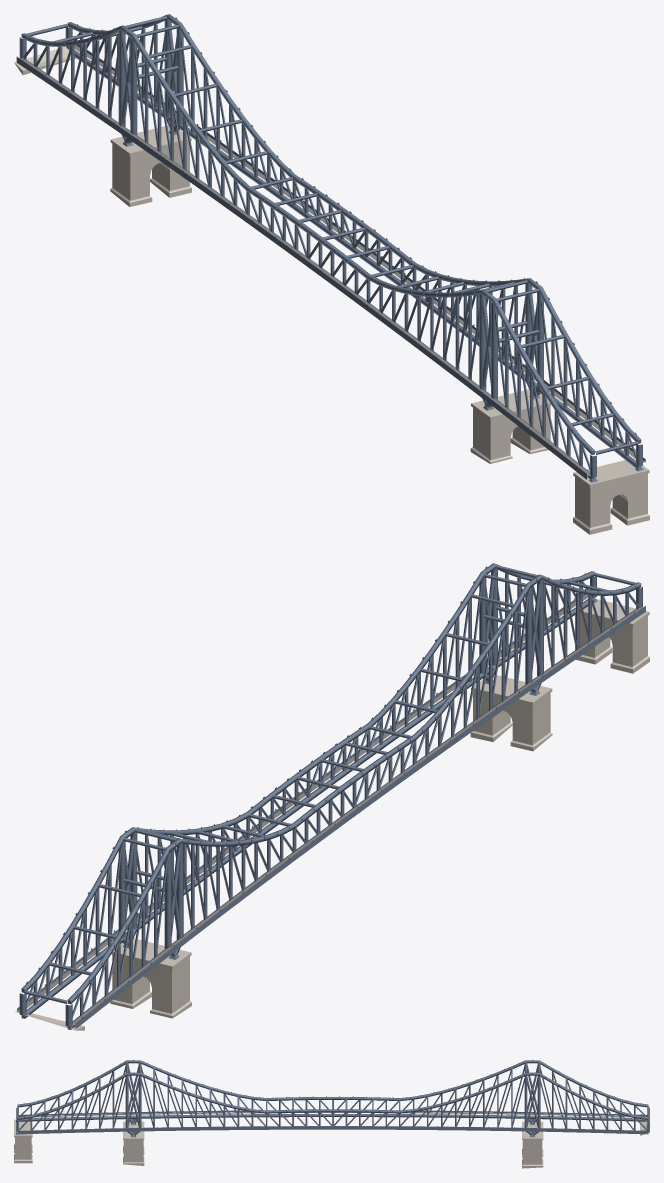
File: brisbane-story-bridge.glb
The picture shows the model from 3 angles, top to bottom: view 1: azimuth 30°, elevation 25°; view 2: azimuth 150°, elevation 25°; view 3: azimuth 270°, elevation 25°; orthographic projection. The views are drawn at different scales.
Visible parts, largest first — view 1: Story Bridge; view 2: Story Bridge; view 3: Story Bridge.
Boxes of the visible parts, <box> form: Story Bridge: <box>14,14,649,534</box>; Story Bridge: <box>15,563,649,1030</box>; Story Bridge: <box>14,1059,649,1168</box>.
Size of the model in its own units: 28.2 by 73.3 by 450.
